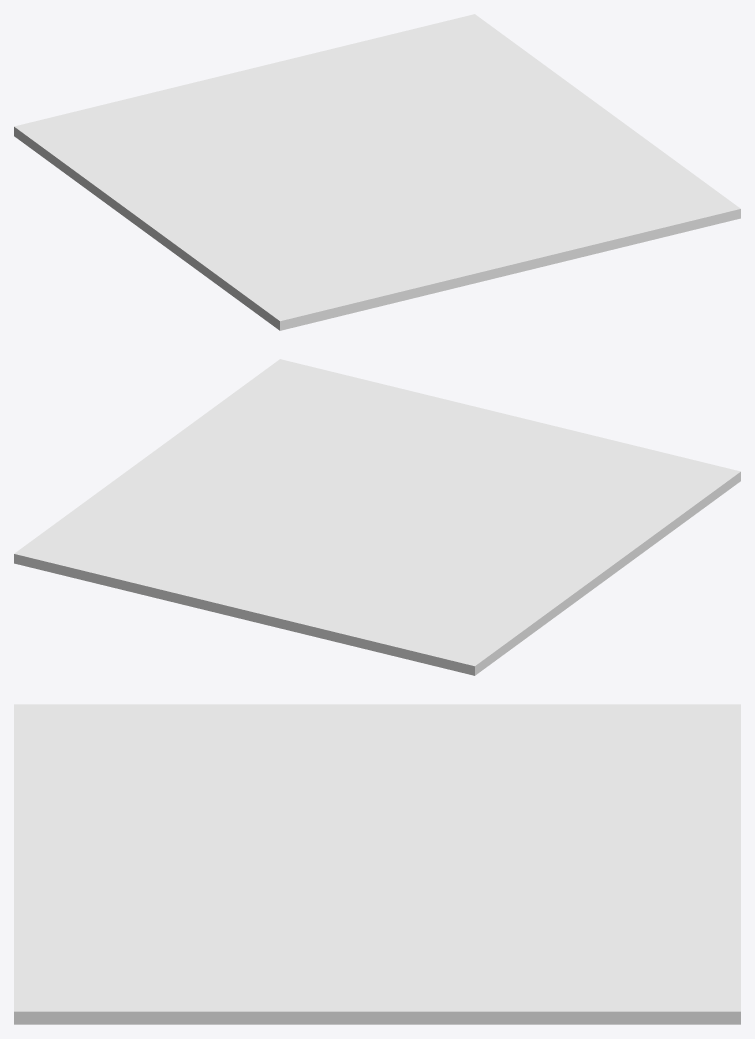
Rendered from base_tile.fbx.
3 views of the same model, one above another, from view 1: azimuth 30°, elevation 25°; view 2: azimuth 150°, elevation 25°; view 3: azimuth 270°, elevation 25° (orthographic). The views are drawn at different scales.
Parts seen in each view (by area): view 1: base.tile; view 2: base.tile; view 3: base.tile.
Boxes of the visible parts, x1,y1,x2,y2 form: base.tile: (14, 14, 740, 330); base.tile: (14, 359, 740, 675); base.tile: (14, 704, 740, 1024).
Bounding box in the file's own units: 500 × 10 × 500.
